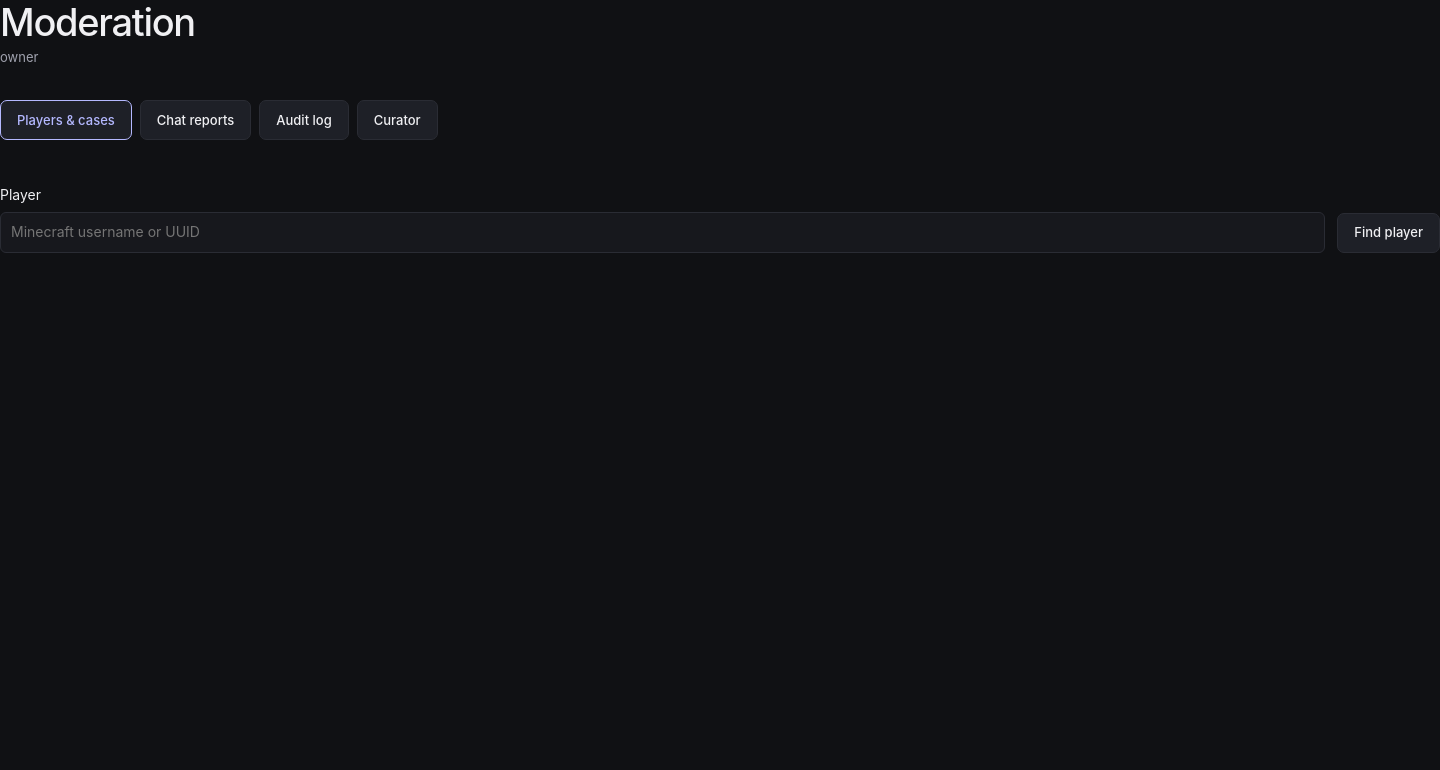
Scenario: uses the current appeal state when changing a case (false)
In the field labelled "Player": (663,233) [0,212,1325,253], type "SyntheticPlayer"
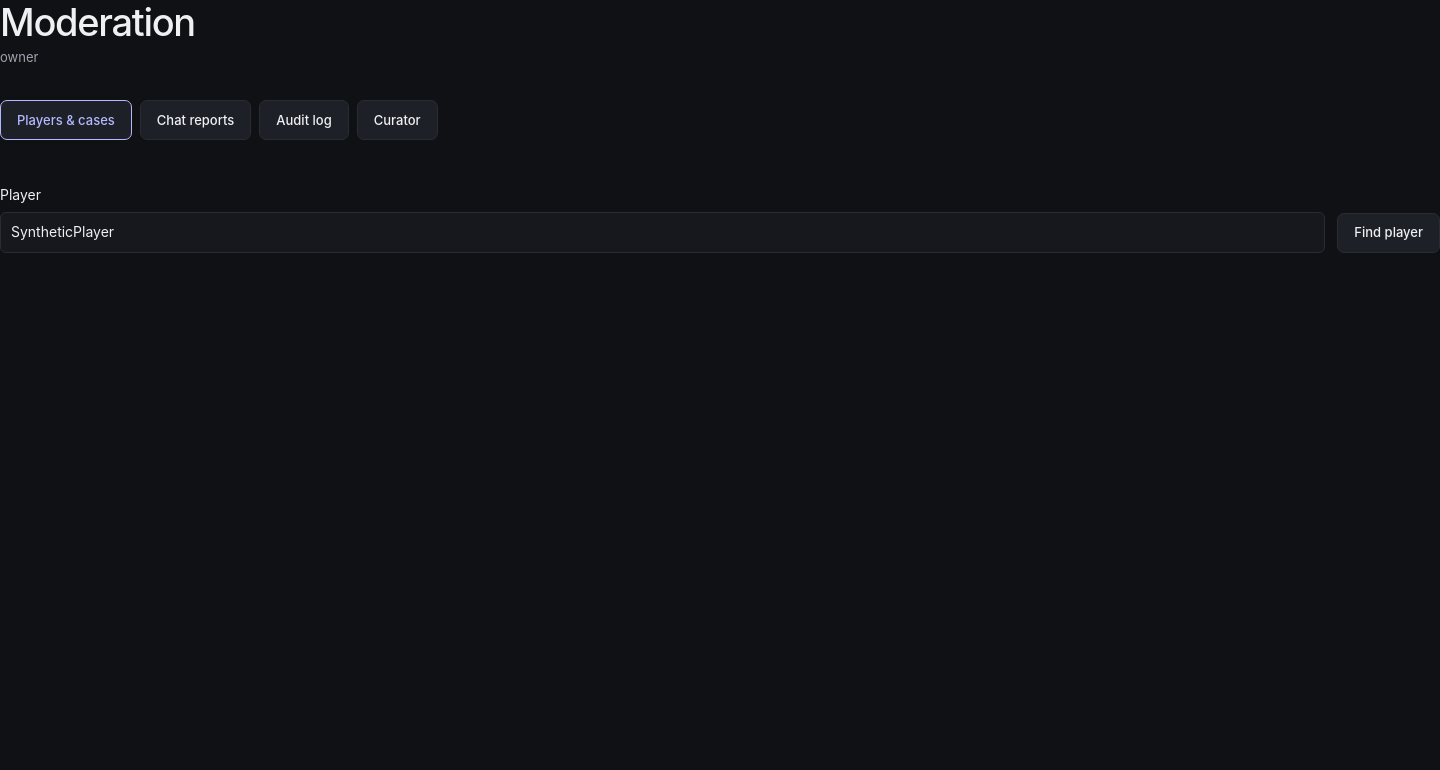
Click the button "Find player": (1389,233) [1337,213,1439,253]
(page scrolled)
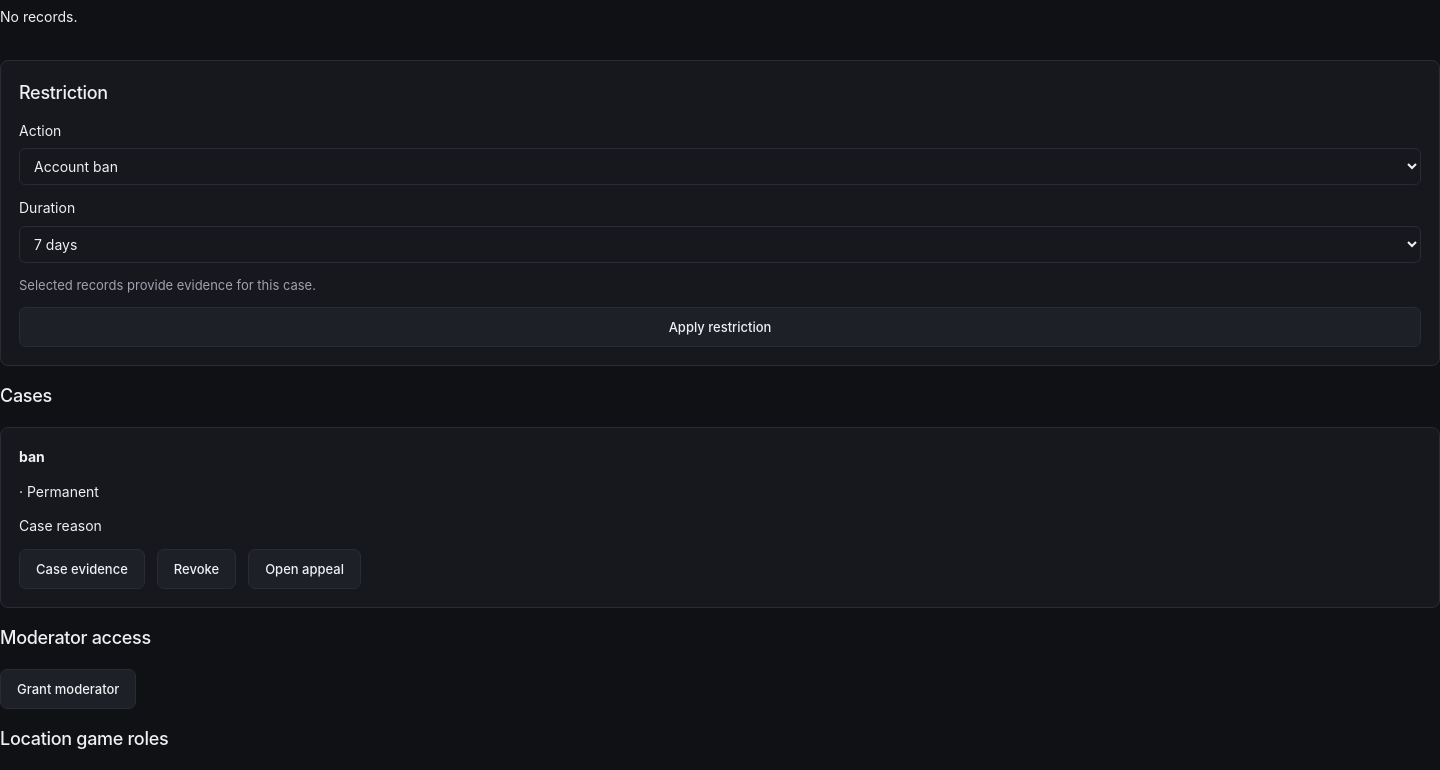
Check: the text "No records." is shown, box [0,8,78,25]
Click the button "Case evidence": (82,569) [19,549,145,589]
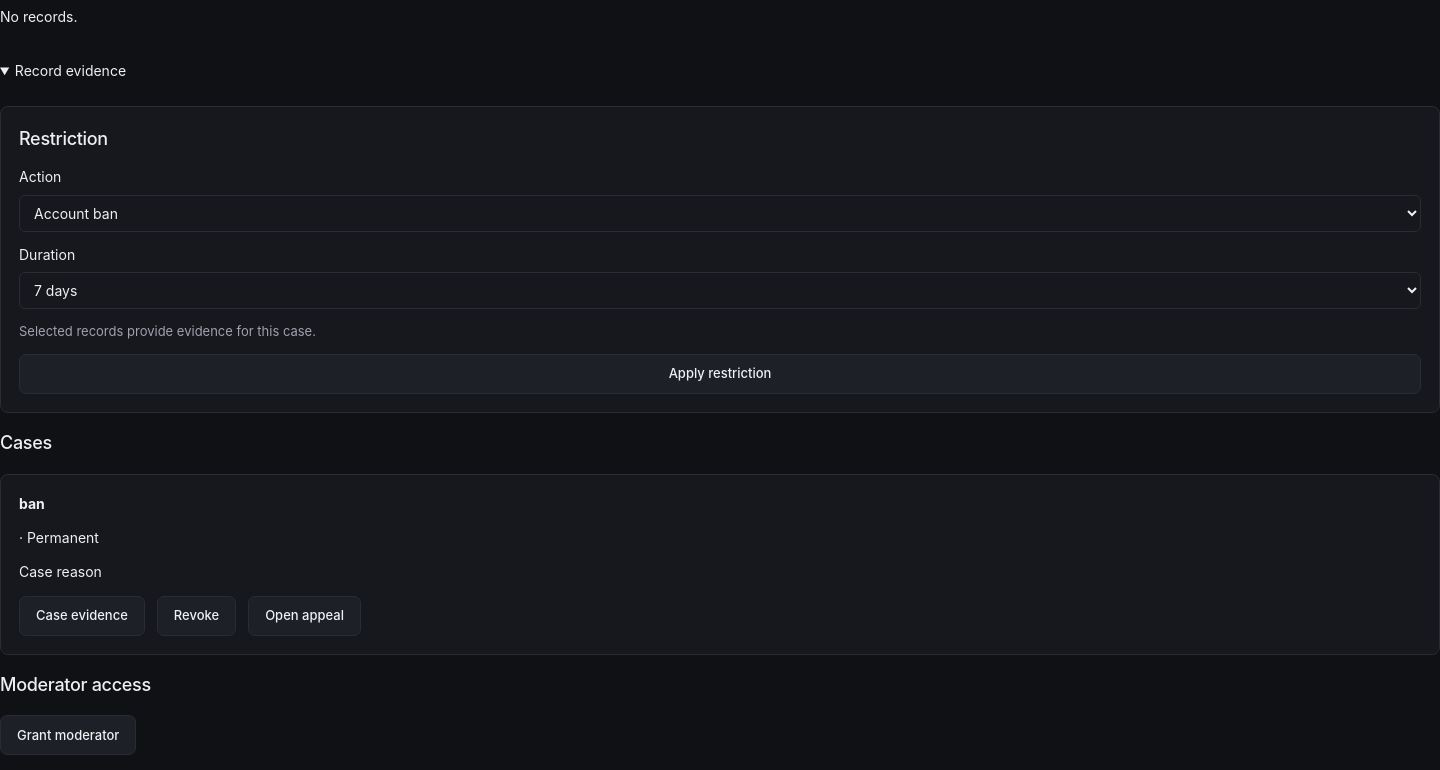
Check: the heading "Record evidence" is shown, box [15,62,126,79]
Click the button "Open appeal": (304,616) [248,596,361,636]
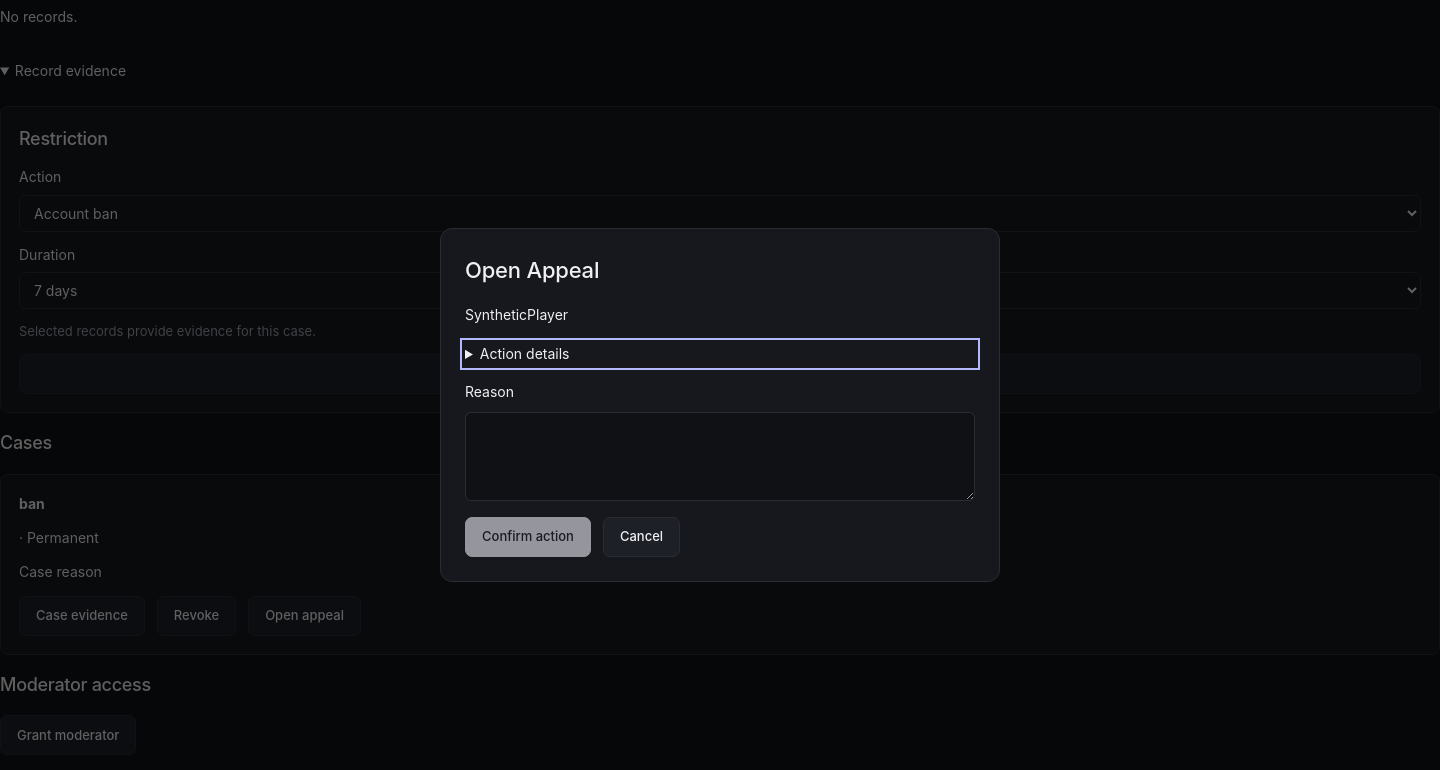
Check: the button "Confirm action" is disabled, box [465,517,591,557]
In the text box labelled "Reason": (720,456) [465,412,975,501], type "Appeal reviewed"
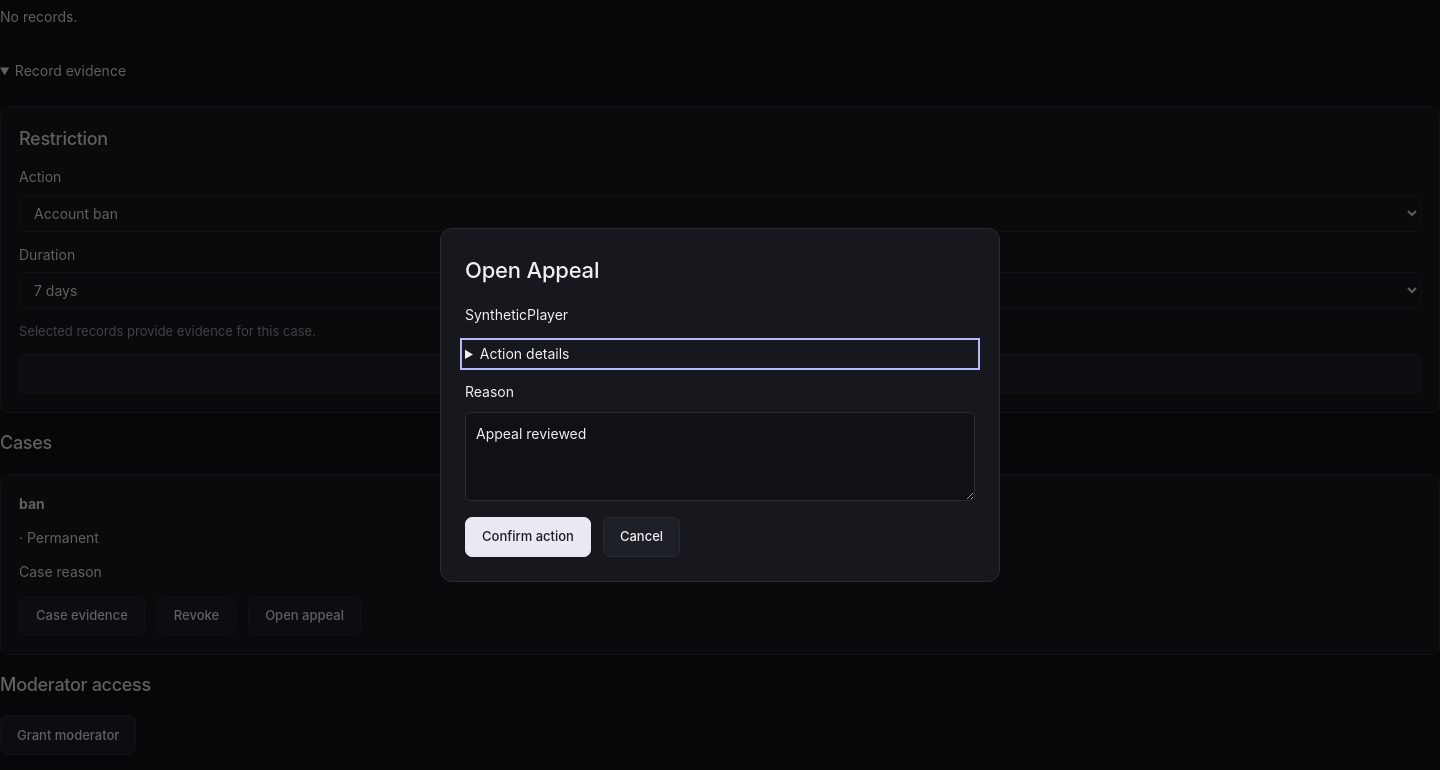
Click the button "Confirm action": (528,537) [465,517,591,557]
(page scrolled)
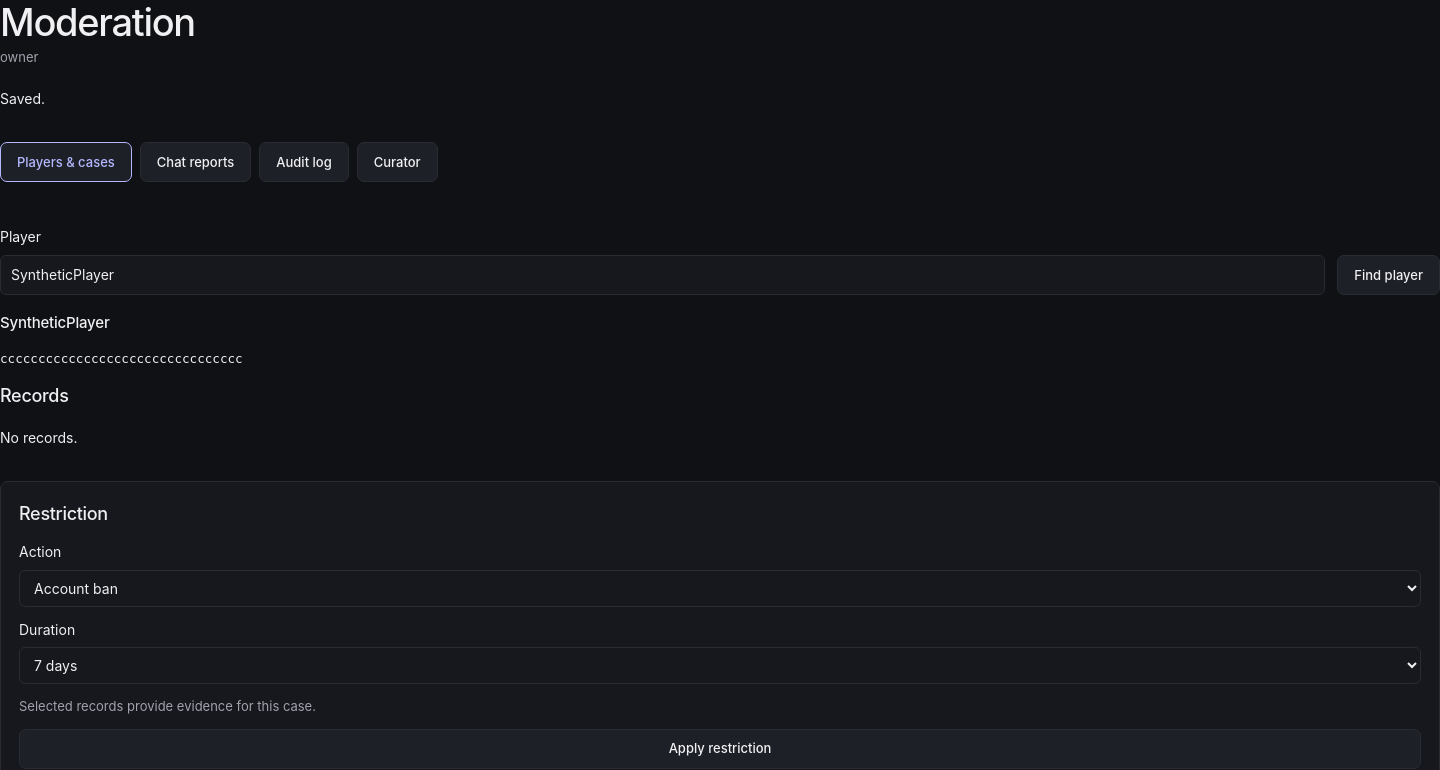
Check: the text "Saved." is shown, box [0,90,45,107]
